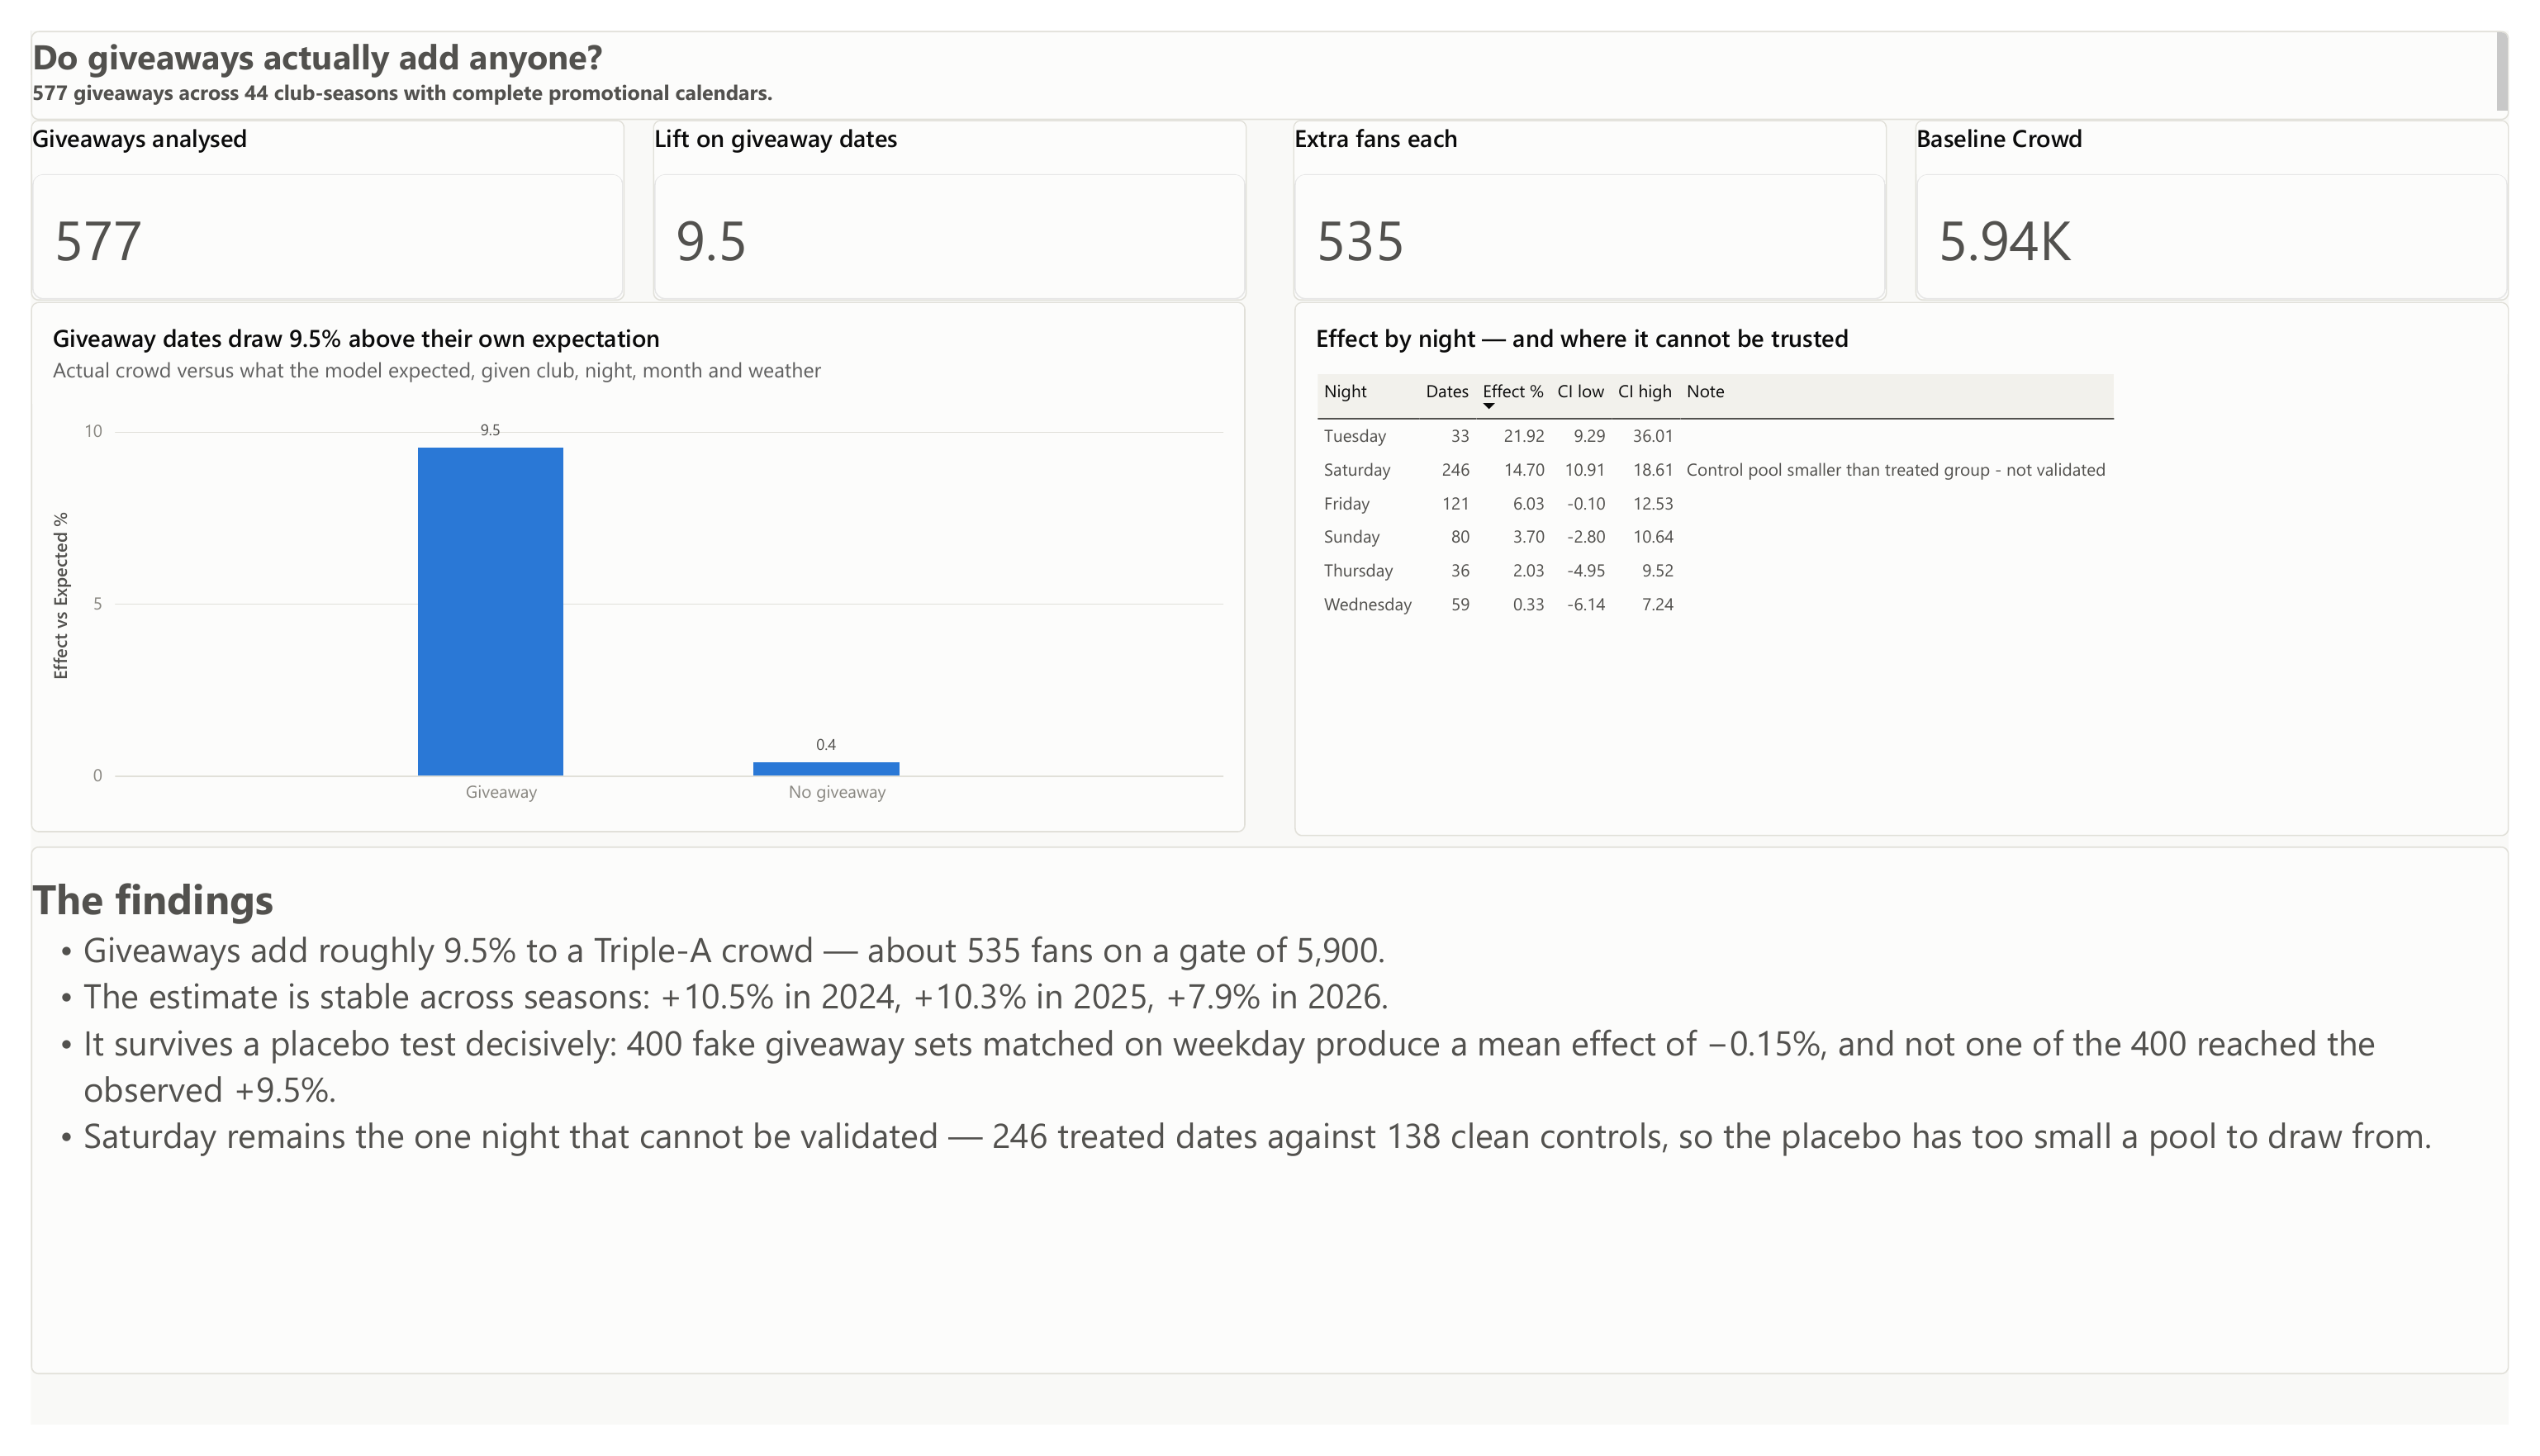

The page's visual inventory and layout, read from the dashboard file:
{"tool":"powerbi","page":{"name":"Giveaway Effect","canvas":[1920,1080],"ordinal":2},"visuals":[{"type":"cardVisual","title":"Giveaways analysed","fields":{"Data":["dim_club.Giveaway Dates"]},"box":[0,69.4,459.8,139.8],"z":0},{"type":"cardVisual","title":"Lift on giveaway dates","fields":{"Data":["dim_club.Effect vs Expected %"]},"box":[482,69.4,459.8,139.8],"z":1000},{"type":"cardVisual","title":"Extra fans each","fields":{"Data":["dim_club.Extra Fans per Giveaway"]},"box":[978.4,69.4,459.8,139.8],"z":2000},{"type":"cardVisual","title":"Baseline Crowd","fields":{"Data":["dim_club.Baseline Crowd"]},"box":[1460.4,69.4,459.8,139.8],"z":3000},{"type":"clusteredColumnChart","title":"Giveaway dates draw 9.5% above their own expectation","fields":{"Category":["fct_home_date.giveaway_label"],"Y":["dim_club.Effect vs Expected %"]},"box":[0,209.7,941.2,411.4],"z":4000},{"type":"tableEx","title":"Effect by night — and where it cannot be trusted","fields":{"Values":["fct_model_result.category","fct_model_result.n","fct_model_result.effect_pct","fct_model_result.ci_low","fct_model_result.ci_high","fct_model_result.note"]},"box":[978.8,209.7,941.2,414.1],"z":5000},{"type":"textbox","box":[0,631.9,1920,408.7],"z":6000},{"type":"textbox","box":[0,0,1920,69.4],"z":7000}]}

Visuals, with their boxes on the page's 1920x1080 design canvas (x1, y1, x2, y2). These are canvas units, not pixel positions in the 2540x1456 screenshot, which may show the page scaled, cropped or inside an application window:
"Giveaways analysed" cardVisual: pyautogui.locateOnScreen(0, 69, 460, 209)
"Lift on giveaway dates" cardVisual: pyautogui.locateOnScreen(482, 69, 942, 209)
"Extra fans each" cardVisual: pyautogui.locateOnScreen(978, 69, 1438, 209)
"Baseline Crowd" cardVisual: pyautogui.locateOnScreen(1460, 69, 1920, 209)
"Giveaway dates draw 9.5% above their own expectation" clusteredColumnChart: pyautogui.locateOnScreen(0, 210, 941, 621)
"Effect by night — and where it cannot be trusted" tableEx: pyautogui.locateOnScreen(979, 210, 1920, 624)
textbox: pyautogui.locateOnScreen(0, 632, 1920, 1041)
textbox: pyautogui.locateOnScreen(0, 0, 1920, 69)
